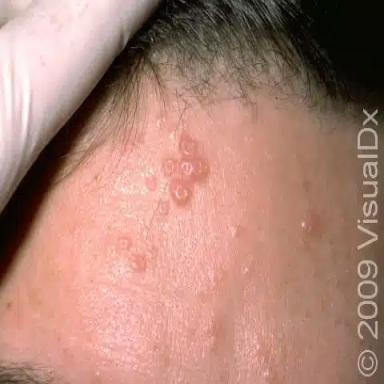Molluscum-Contagiosum: (165, 134, 209, 206), (116, 235, 132, 252), (132, 253, 146, 272), (145, 175, 157, 192), (157, 200, 169, 215), (301, 219, 311, 232)
